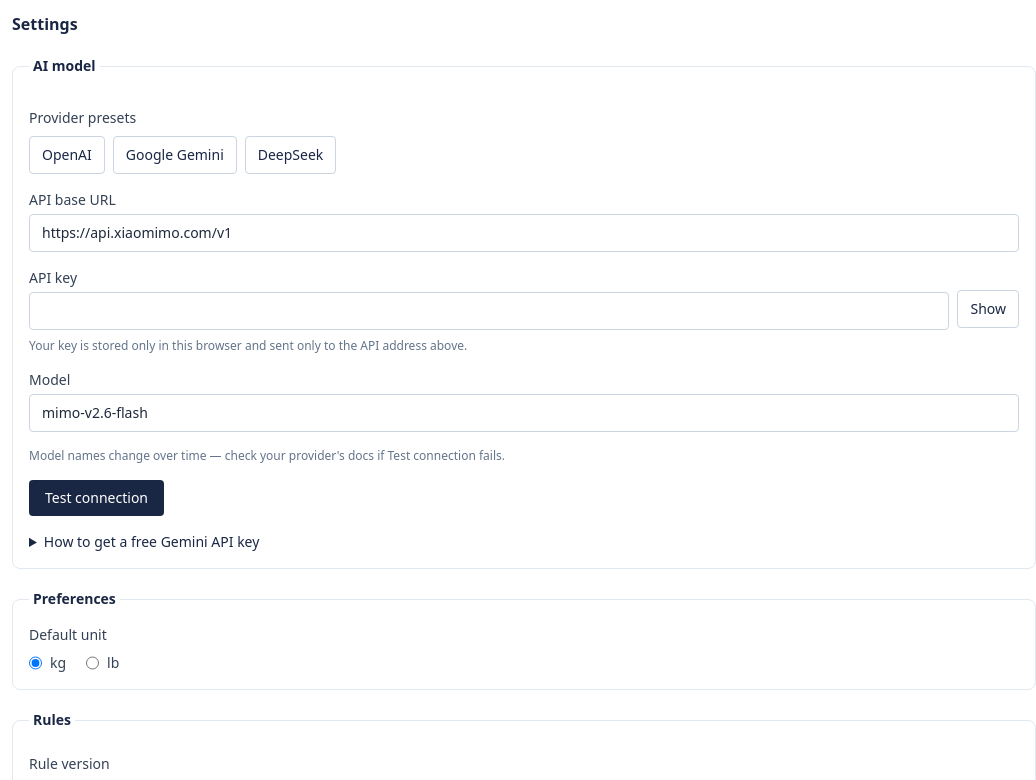
Test case: displays success and disables duplicate testing while busy
Type "sk-test-SECRET123" into the password field labelled "API key".
click(489, 311); type("sk-test-SECRET123")  # box [29, 292, 950, 330]
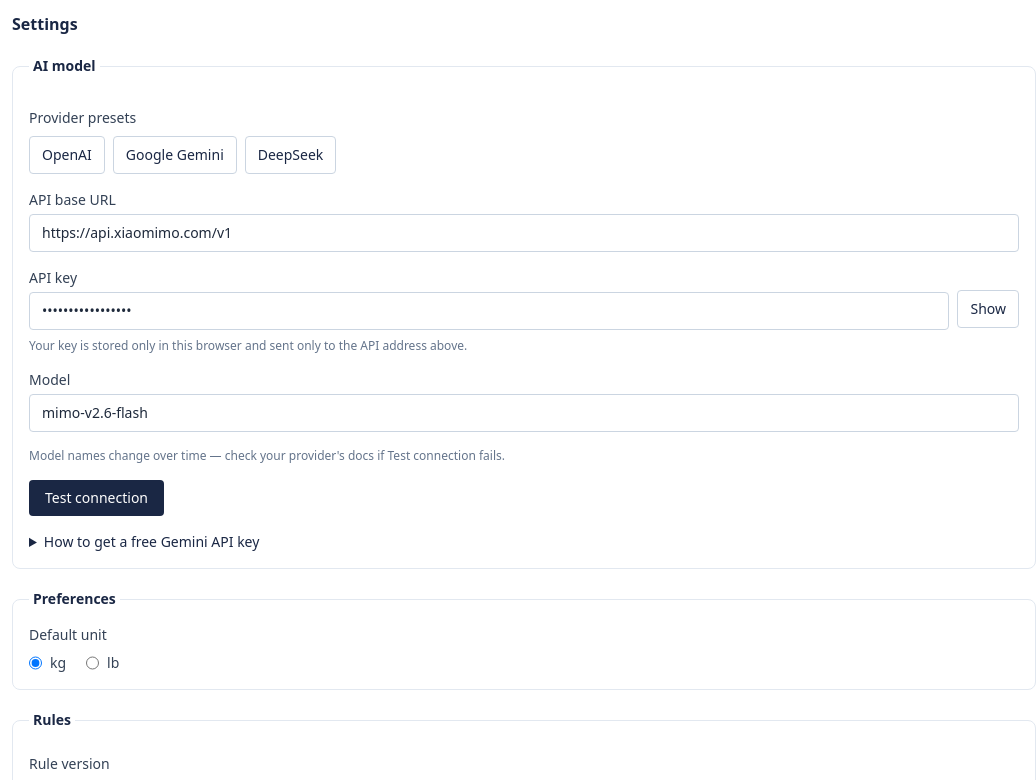
Click the button "Test connection".
click(96, 498)  # box [29, 480, 164, 516]
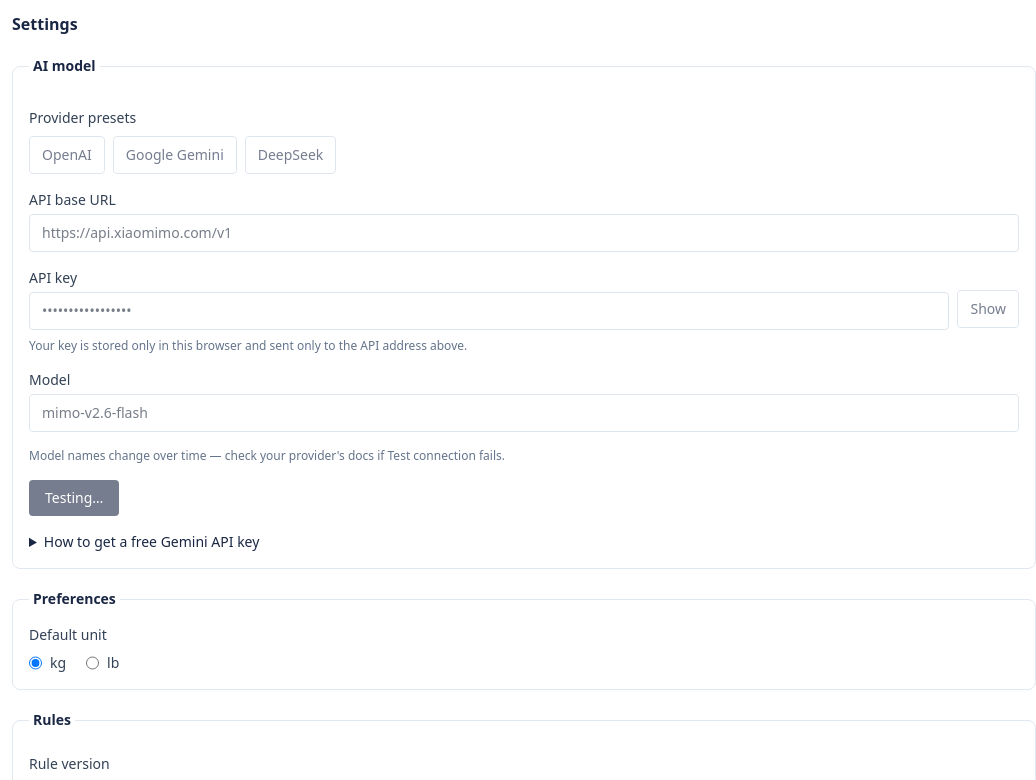
Click the button "Testing…".
click(74, 498)  # box [29, 480, 119, 516]
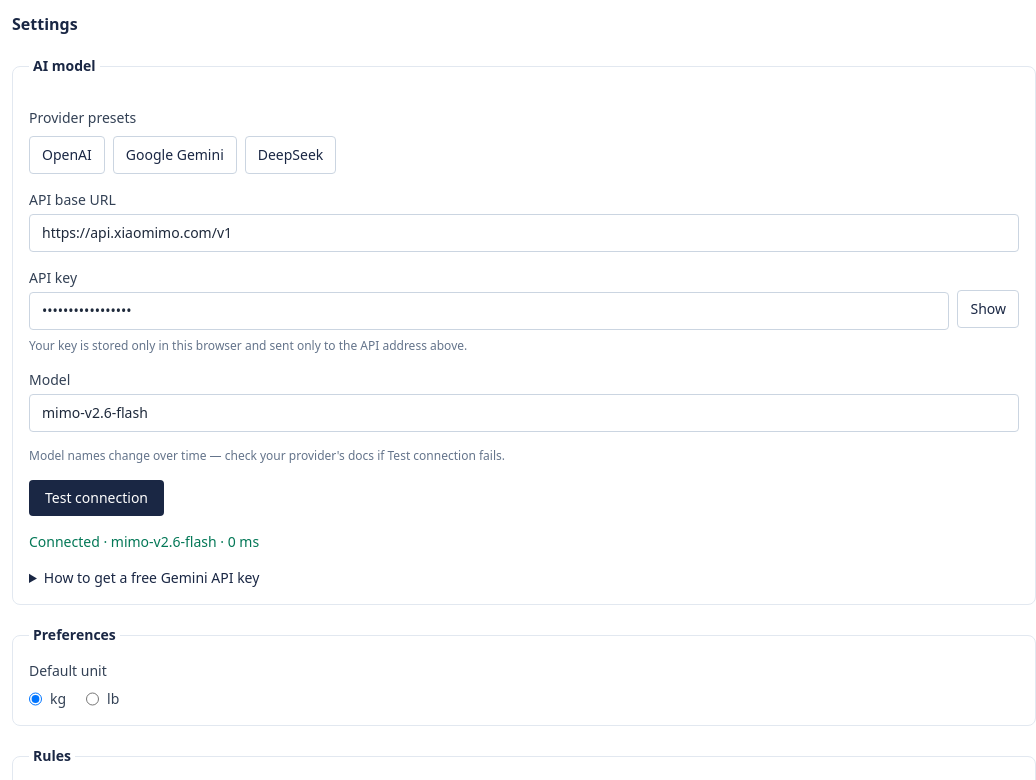
Check: the message reads "Connected · mimo-v2.6-flash · 0 ms", box [29, 532, 259, 551]
